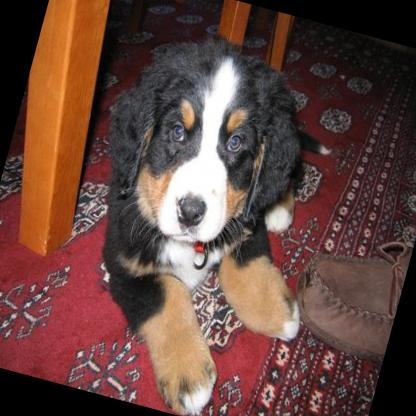Bernese_mountain_dog: (49, 9, 367, 416)
